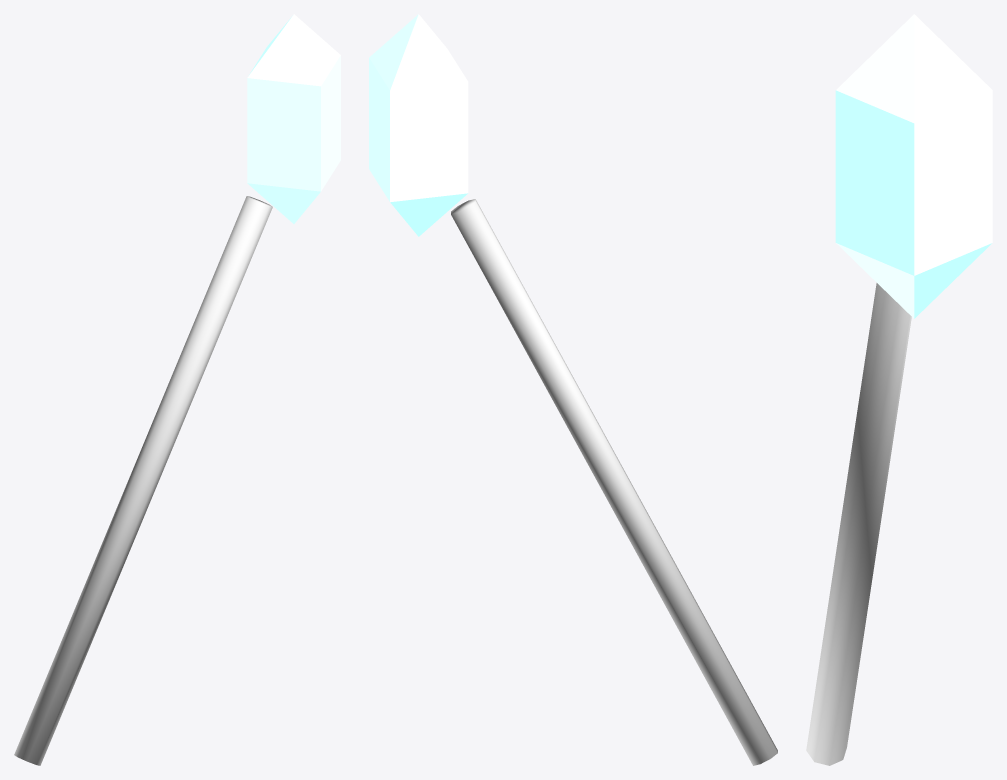
The model's file is wand_crystal.glb.
3 views of the same model, side by side, from view 1: azimuth 30°, elevation 25°; view 2: azimuth 150°, elevation 25°; view 3: azimuth 270°, elevation 25° (orthographic). The views are drawn at different scales.
Visible parts, largest first — view 1: wand_crystal; view 2: wand_crystal; view 3: wand_crystal.
Part boxes in pixels (x1,y1,x2,y2): wand_crystal: (14,14,340,765); wand_crystal: (369,14,777,765); wand_crystal: (806,14,992,765).
Bounding box in the file's own units: 0.2292 × 0.4067 × 0.0721.
